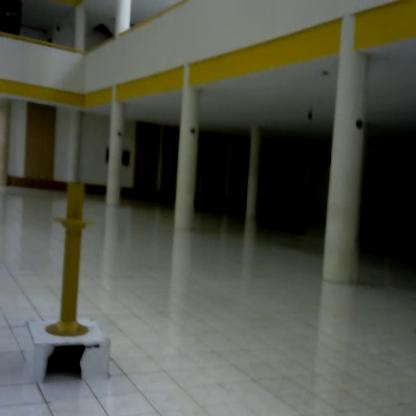pole: (41, 177, 100, 340)
